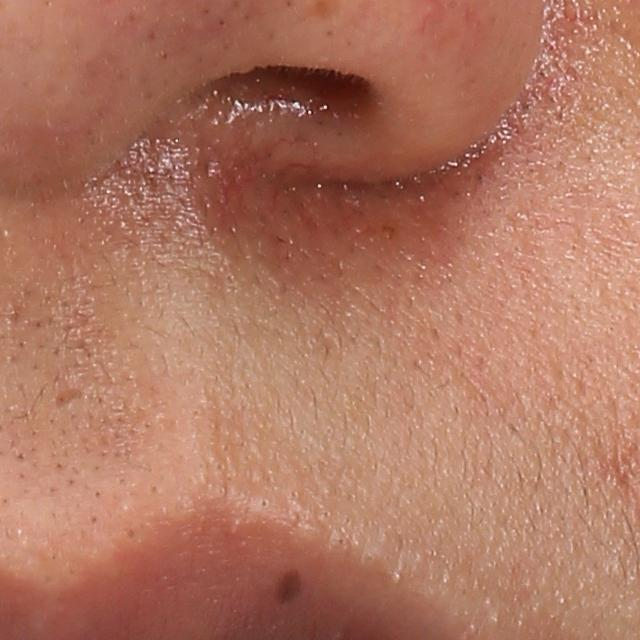atrophic_scar: (53, 388, 86, 410)
nevus: (276, 567, 302, 608)
